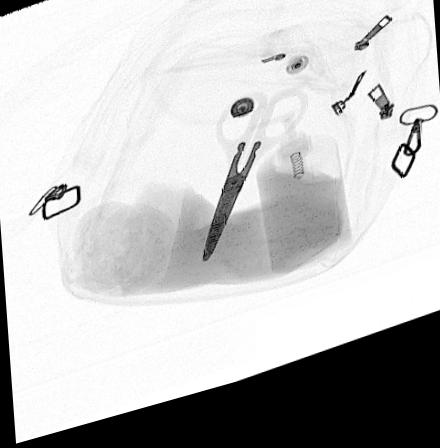Scissors: (200, 100, 307, 274)
